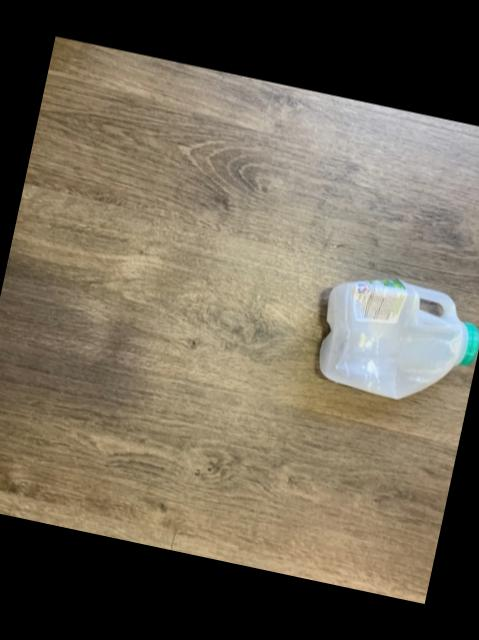plastic: (320, 280, 479, 399)
